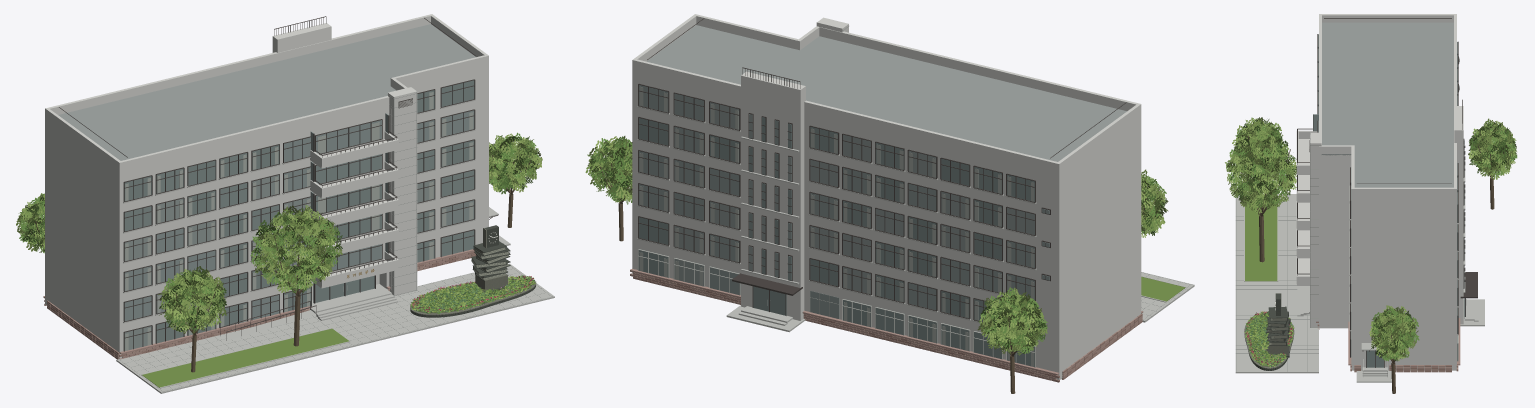
3 views of the same model, side by side, from view 1: azimuth 30°, elevation 25°; view 2: azimuth 150°, elevation 25°; view 3: azimuth 270°, elevation 25° (orthographic). The views are drawn at different scales.
Visible parts, largest first — view 1: T4 six storey structure, T4 flat roof, T4 forecourt paving, T4 window glass.001, T4 roof parapet, T4 window glass.002, T4 setback east wing, T4 window glass.003, T4 window transoms, T4 window mullions, T4 front shaft, T4 curtain panels (+41 smaller); view 2: T4 six storey structure, T4 flat roof, T4 rear stair tower, T4 window glass.002, T4 window glass.001, T4 roof parapet, T4 setback east wing, T4 window glass, T4 window transoms, T4 window mullions, T4 curtain panels, T4 setback east flat roof (+29 smaller); view 3: T4 flat roof, T4 setback east wing, T4 forecourt paving, T4 six storey structure, T4 setback east flat roof, T4 Canopy T4 front broadleaf.001, T4 end parapet, T4 west forecourt lawn, T4 Canopy T4 front broadleaf, T4 Canopy T4 front broadleaf.002, T4 front shaft, T4 setback east ground structure (+32 smaller).
Part boxes in pixels (x1,y1,x2,y2): T4 six storey structure: (45, 106, 389, 328); T4 flat roof: (58, 46, 396, 160); T4 forecourt paving: (116, 263, 554, 393); T4 window glass.001: (124, 80, 474, 343); T4 roof parapet: (48, 14, 430, 171); T4 window glass.002: (124, 110, 474, 321); T4 setback east wing: (406, 65, 488, 238); T4 window glass.003: (124, 150, 474, 262); T4 window transoms: (124, 79, 474, 338); T4 window mullions: (123, 80, 475, 351); T4 front shaft: (388, 87, 417, 295); T4 curtain panels: (125, 92, 473, 350); T4 six storey structure: (736, 96, 1141, 346); T4 flat roof: (762, 36, 1126, 161); T4 rear stair tower: (741, 71, 805, 320); T4 window glass.002: (639, 85, 1035, 310); T4 window glass.001: (638, 118, 1003, 359); T4 roof parapet: (635, 27, 1137, 173); T4 setback east wing: (632, 70, 735, 267); T4 window glass: (674, 102, 1035, 320); T4 window transoms: (638, 83, 1035, 322); T4 window mullions: (638, 84, 1035, 319); T4 curtain panels: (639, 87, 1034, 366); T4 setback east flat roof: (647, 25, 796, 84); T4 flat roof: (1321, 22, 1453, 155); T4 setback east wing: (1351, 197, 1456, 342); T4 forecourt paving: (1235, 194, 1318, 373); T4 six storey structure: (1319, 155, 1351, 299); T4 setback east flat roof: (1354, 154, 1453, 187); T4 Canopy T4 front broadleaf.001: (1225, 131, 1296, 213); T4 end parapet: (1319, 14, 1456, 198); T4 west forecourt lawn: (1245, 195, 1277, 281); T4 Canopy T4 front broadleaf: (1226, 132, 1296, 211); T4 Canopy T4 front broadleaf.002: (1226, 131, 1296, 209); T4 front shaft: (1310, 132, 1321, 327); T4 setback east ground structure: (1351, 342, 1456, 370).
Bounding box in the file's own units: 49.63 × 22.14 × 29.28.
Materials: 32 (6 with a texture image).
